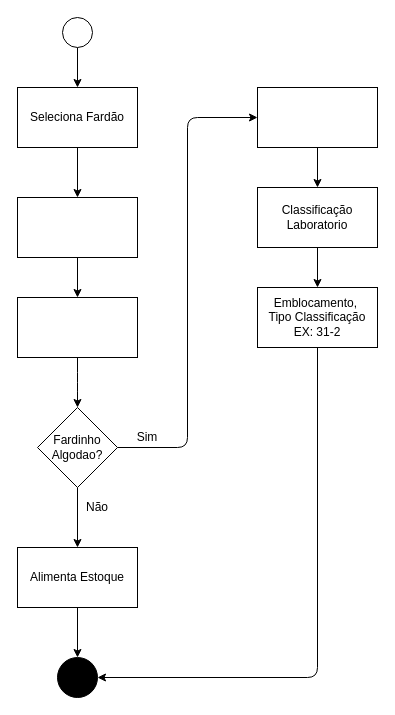
The diagram is 395 pixels wide and 715 high, and some of its shapes have lost their labels. Each missing label, with the centre of its shape:
Classificação Visual: (x=317, y=117)
Gera Sub Produtos, Fardinho Algodao, Caroço, Fribrilha: (x=77, y=327)
Processa Fardão: (x=77, y=227)
